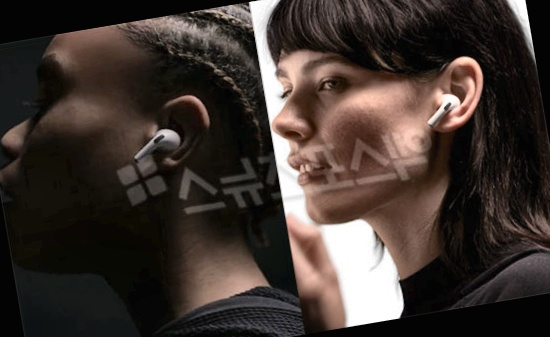earphone: (126, 93, 217, 172), (415, 54, 491, 135)
